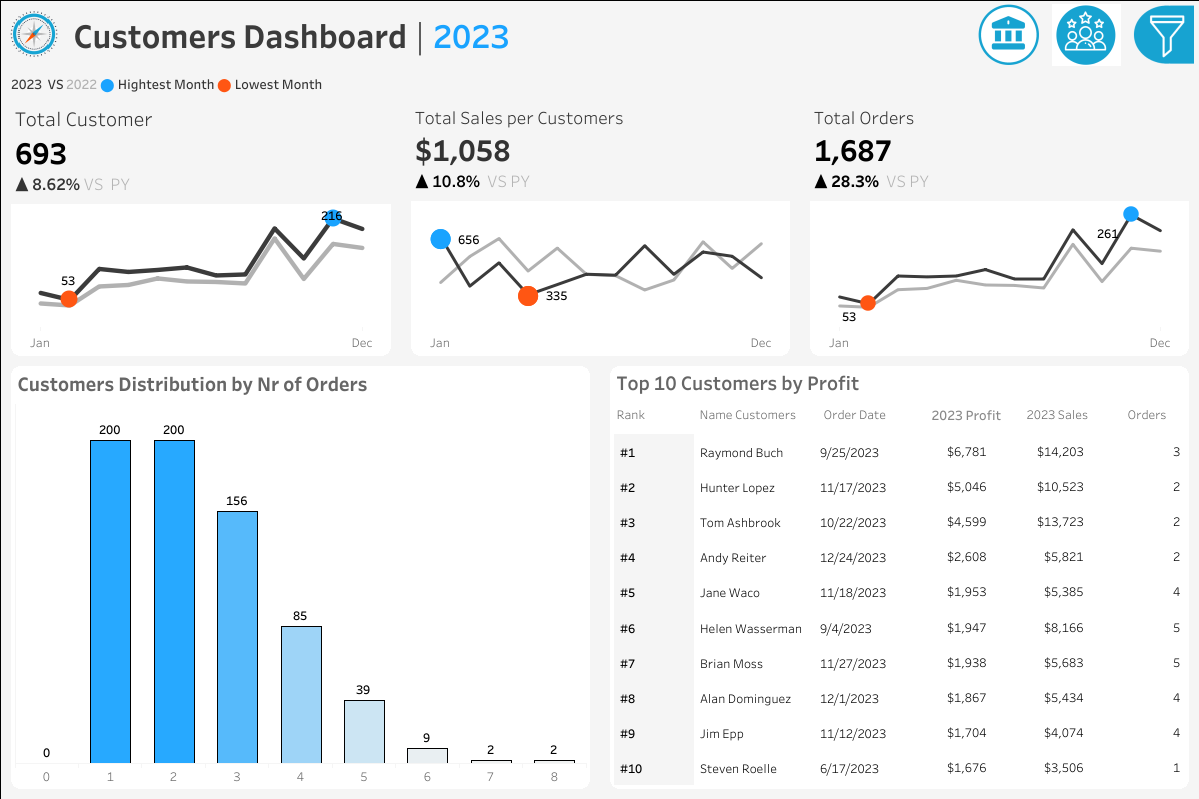

What the dashboard file says about the page in this screenshot:
{"tool":"tableau","page":{"name":"Custumer Dashboard","canvas":[1200,800],"ordinal":0},"visuals":[{"type":"dashboard-object","box":[970,0,78,70]},{"type":"dashboard-object","box":[1048,0,77,70]},{"type":"dashboard-object","box":[1125,0,77,70]},{"type":"image","param":"Image/Icon - Logo.png","box":[1,1,66,67]},{"type":"text","box":[67,1,1132,67]},{"type":"blank","box":[977,12,215,74]},{"type":"worksheet","title":"Lagend KPI","mark":"Automatic","box":[1,68,1198,31]},{"type":"text","box":[977,86,215,48]},{"type":"worksheet","title":"KPI Customer ","mark":"Line","rows":["Calculation_0832660072263689"],"cols":["Order Date"],"box":[1,99,400,267]},{"type":"worksheet","title":"KPI Sales per Consumen","mark":"Automatic","rows":["Calculation_0832660094828557"],"cols":["Order Date"],"box":[401,99,399,267]},{"type":"worksheet","title":"KPI Orders","mark":"Automatic","rows":["Calculation_1189176821821443"],"cols":["Order Date"],"box":[800,99,399,267]},{"type":"parameter","param":"[Parameters].[Parameter 0783180659109891]","box":[977,134,215,52]},{"type":"text","box":[977,186,215,38]},{"type":"filter","title":"KPI Customer ","param":"[federated.0f3nyxw02ikmxb1c5pdhk00javjx].[none:Category:nk]","box":[977,224,215,60]},{"type":"filter","title":"KPI Customer ","param":"[federated.0f3nyxw02ikmxb1c5pdhk00javjx].[none:Sub-Category:nk]","box":[977,284,215,60]},{"type":"text","box":[977,344,215,55]},{"type":"text","box":[11,366,579,34]},{"type":"text","box":[610,366,579,34]},{"type":"filter","title":"KPI Customer ","param":"[federated.0f3nyxw02ikmxb1c5pdhk00javjx].[none:Region:nk]","box":[977,399,215,60]},{"type":"worksheet","title":"Customers distribution","mark":"Automatic","rows":["Calculation_0832660061380610"],"cols":["Calculation_1189176837869572"],"box":[11,400,579,389]},{"type":"text","box":[610,400,83,30]},{"type":"text","box":[693,400,124,30]},{"type":"text","box":[817,400,108,30]},{"type":"text","box":[925,400,95,30]},{"type":"text","box":[1020,400,101,30]},{"type":"text","box":[1121,400,50,30]},{"type":"worksheet","title":"Top Customers","mark":"Automatic","rows":["Calculation_1189176845148167","Customer Name","Order Date"],"box":[610,430,579,359]},{"type":"filter","title":"KPI Customer ","param":"[federated.0f3nyxw02ikmxb1c5pdhk00javjx].[none:State:nk]","box":[977,459,215,60]},{"type":"filter","title":"KPI Customer ","param":"[federated.0f3nyxw02ikmxb1c5pdhk00javjx].[none:City:nk]","box":[977,519,215,60]}]}

Visuals, with their boxes in screenshot pixels (x1, y1, x2, y2), scaled from the page's 1200x800 canvas onto the 1199x799 screenshot:
dashboard-object: <box>969,0,1047,70</box>
dashboard-object: <box>1047,0,1124,70</box>
dashboard-object: <box>1124,0,1198,70</box>
image: <box>1,1,67,68</box>
text: <box>67,1,1198,68</box>
blank: <box>976,12,1191,86</box>
"Lagend KPI" worksheet: <box>1,68,1198,99</box>
text: <box>976,86,1191,134</box>
"KPI Customer " worksheet (Line marks): <box>1,99,401,366</box>
"KPI Sales per Consumen" worksheet: <box>401,99,799,366</box>
"KPI Orders" worksheet: <box>799,99,1198,366</box>
parameter: <box>976,134,1191,186</box>
text: <box>976,186,1191,224</box>
"KPI Customer " filter: <box>976,224,1191,284</box>
"KPI Customer " filter: <box>976,284,1191,344</box>
text: <box>976,344,1191,399</box>
text: <box>11,366,590,400</box>
text: <box>609,366,1188,400</box>
"KPI Customer " filter: <box>976,399,1191,458</box>
"Customers distribution" worksheet: <box>11,400,590,788</box>
text: <box>609,400,692,429</box>
text: <box>692,400,816,429</box>
text: <box>816,400,924,429</box>
text: <box>924,400,1019,429</box>
text: <box>1019,400,1120,429</box>
text: <box>1120,400,1170,429</box>
"Top Customers" worksheet: <box>609,429,1188,788</box>
"KPI Customer " filter: <box>976,458,1191,518</box>
"KPI Customer " filter: <box>976,518,1191,578</box>
